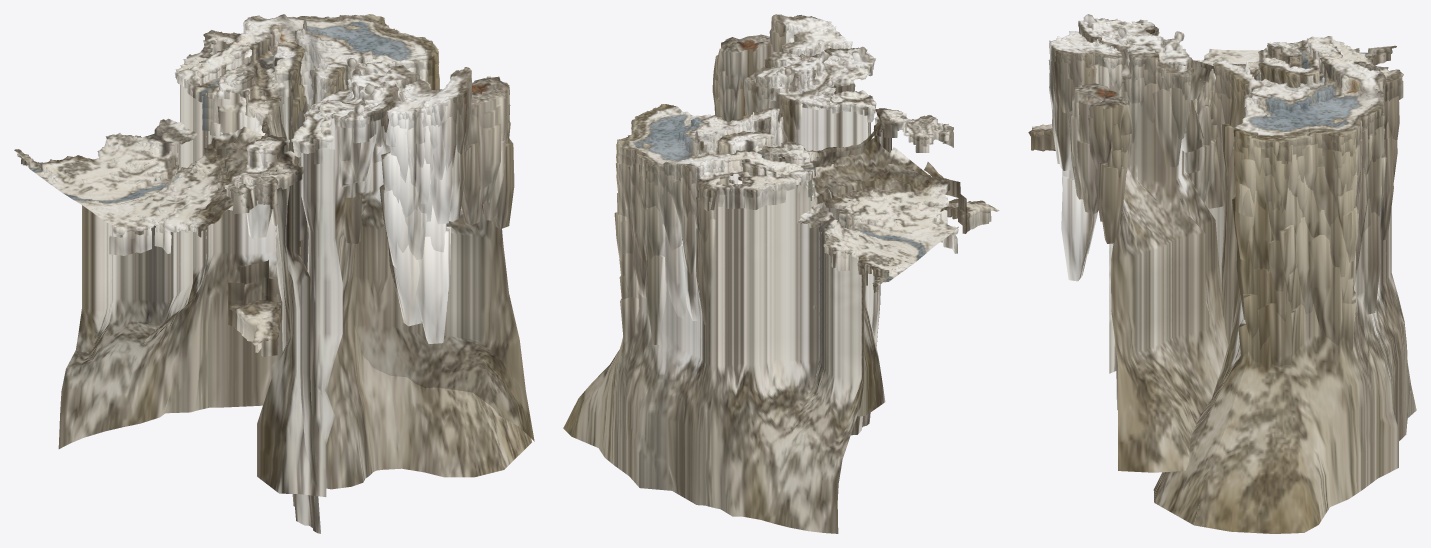
The model's file is tile_2_5.glb.
The picture shows the model from 3 angles, left to right: view 1: azimuth 30°, elevation 25°; view 2: azimuth 150°, elevation 25°; view 3: azimuth 270°, elevation 25°; orthographic projection. The views are drawn at different scales.
Parts seen in each view (by area): view 1: mesh[0].084, mesh[0].083, mesh[2].035, mesh[0].085, mesh[0].064, mesh[0].034, mesh[0].033, mesh[0].065, mesh[0].086, mesh[0].040, mesh[2].036, mesh[1].048 (+2 smaller); view 2: mesh[0].083, mesh[2].036, mesh[0].033, mesh[2].035, mesh[0].064, mesh[0].065, mesh[0].034, mesh[0].084, mesh[0].040, mesh[1].048, mesh[0].068, mesh[0].039 (+1 smaller); view 3: mesh[0].083, mesh[0].084, mesh[2].035, mesh[2].036, mesh[0].085, mesh[0].040, mesh[0].068, mesh[1].048, mesh[0].039, mesh[0].065, mesh[0].034, mesh[0].064 (+2 smaller).
Boxes of the visible parts, <box> form: mesh[0].084: <box>257,110,534,496</box>; mesh[0].083: <box>58,41,531,448</box>; mesh[2].035: <box>275,53,514,344</box>; mesh[0].085: <box>300,65,531,489</box>; mesh[0].064: <box>109,93,385,356</box>; mesh[0].034: <box>14,32,292,209</box>; mesh[0].033: <box>89,95,384,345</box>; mesh[0].065: <box>17,30,294,205</box>; mesh[0].086: <box>266,88,320,533</box>; mesh[0].040: <box>224,14,435,69</box>; mesh[2].036: <box>214,15,438,300</box>; mesh[1].048: <box>311,49,471,147</box>; mesh[0].083: <box>563,186,864,533</box>; mesh[2].036: <box>614,111,766,344</box>; mesh[0].033: <box>800,48,999,243</box>; mesh[2].035: <box>665,16,855,158</box>; mesh[0].064: <box>798,46,991,253</box>; mesh[0].065: <box>702,131,930,309</box>; mesh[0].034: <box>705,132,938,284</box>; mesh[0].084: <box>740,83,885,416</box>; mesh[0].040: <box>617,111,762,188</box>; mesh[1].048: <box>650,14,852,124</box>; mesh[0].068: <box>616,111,764,202</box>; mesh[0].039: <box>652,16,844,123</box>; mesh[0].083: <box>1194,68,1416,533</box>; mesh[0].084: <box>1109,100,1228,472</box>; mesh[2].035: <box>1048,32,1271,369</box>; mesh[2].036: <box>1253,63,1399,366</box>; mesh[0].085: <box>1153,95,1248,524</box>; mesh[0].040: <box>1256,63,1397,141</box>; mesh[0].068: <box>1253,63,1397,163</box>; mesh[1].048: <box>1049,27,1258,159</box>; mesh[0].039: <box>1053,35,1255,138</box>; mesh[0].065: <box>1252,36,1403,99</box>; mesh[0].034: <box>1256,37,1400,78</box>; mesh[0].064: <box>1028,14,1256,151</box>.
Size of the model in its own units: 2125 by 2105 by 1776.
1 material, 1 textured.
